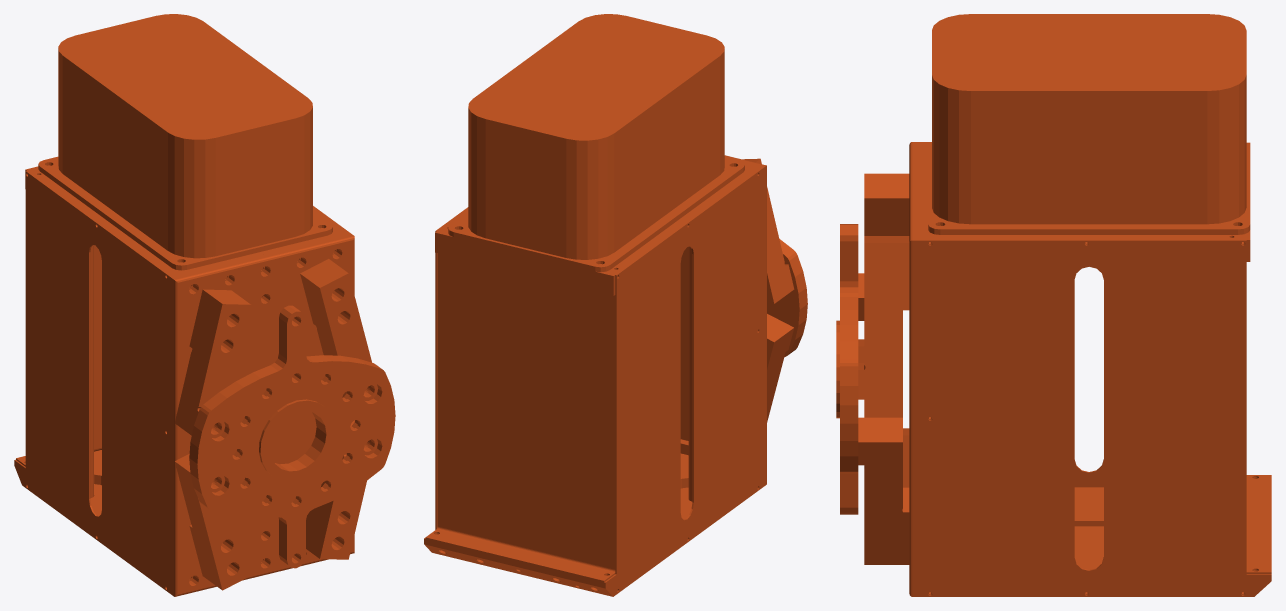
Rendered from body_v5.dae.
3 renders of one model, left to right at view 1: azimuth 30°, elevation 25°; view 2: azimuth 150°, elevation 25°; view 3: azimuth 270°, elevation 25°, orthographic. The views are drawn at different scales.
Parts seen in each view (by area): view 1: node; view 2: node; view 3: node.
Part boxes in pixels (x1,y1,x2,y2): node: [14, 14, 395, 596]; node: [424, 14, 807, 596]; node: [836, 14, 1271, 596].
Size of the model in its own units: 0.21 by 0.4526 by 0.3555.
